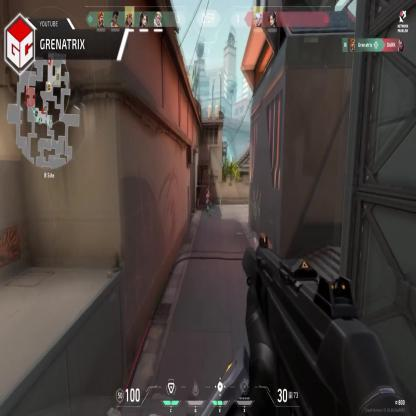enemy: (204, 189, 210, 209)
enemy_head: (208, 190, 210, 193)
